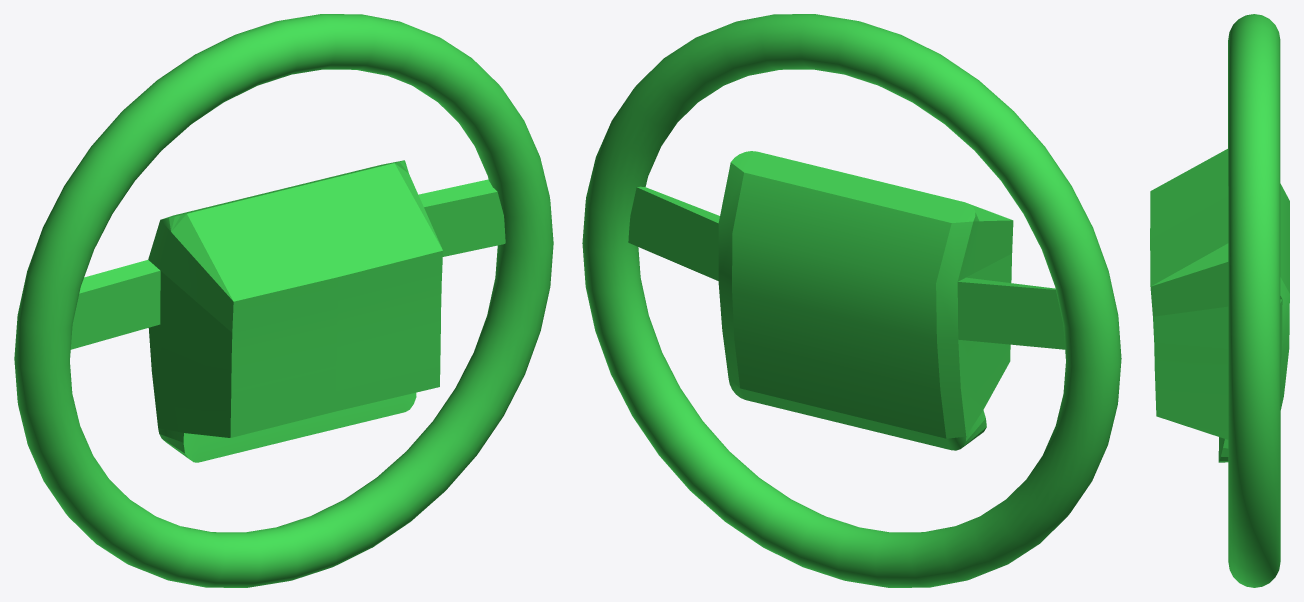
The model's file is Sport_TDR_Steering_Wheel.fbx.
3 views of the same model, side by side, from view 1: azimuth 30°, elevation 25°; view 2: azimuth 150°, elevation 25°; view 3: azimuth 270°, elevation 25° (orthographic). The views are drawn at different scales.
Visible parts, largest first — view 1: Sport_TDR_Steering_Wheel; view 2: Sport_TDR_Steering_Wheel; view 3: Sport_TDR_Steering_Wheel.
Part boxes in pixels (left/top/right/bottom): Sport_TDR_Steering_Wheel: left=14, top=14, right=553, bottom=587; Sport_TDR_Steering_Wheel: left=582, top=14, right=1121, bottom=587; Sport_TDR_Steering_Wheel: left=1150, top=14, right=1289, bottom=587.
Bounding box in the file's own units: 40.44 × 40.44 × 9.85.
